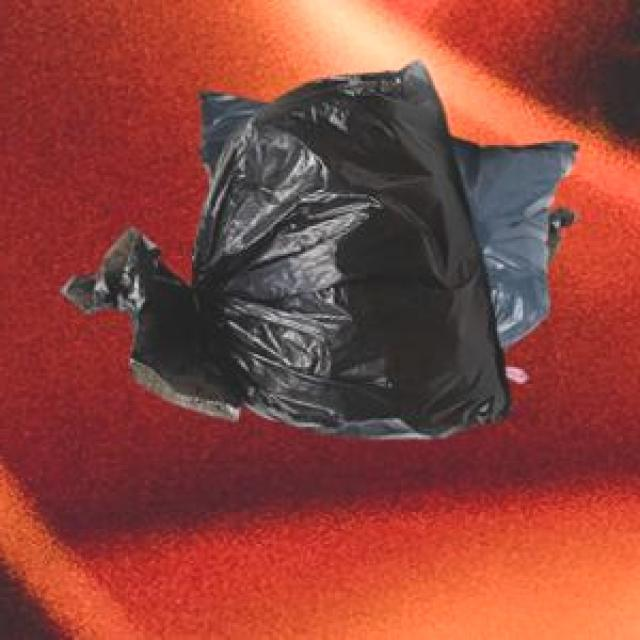Trashbag: (54, 54, 584, 445)
